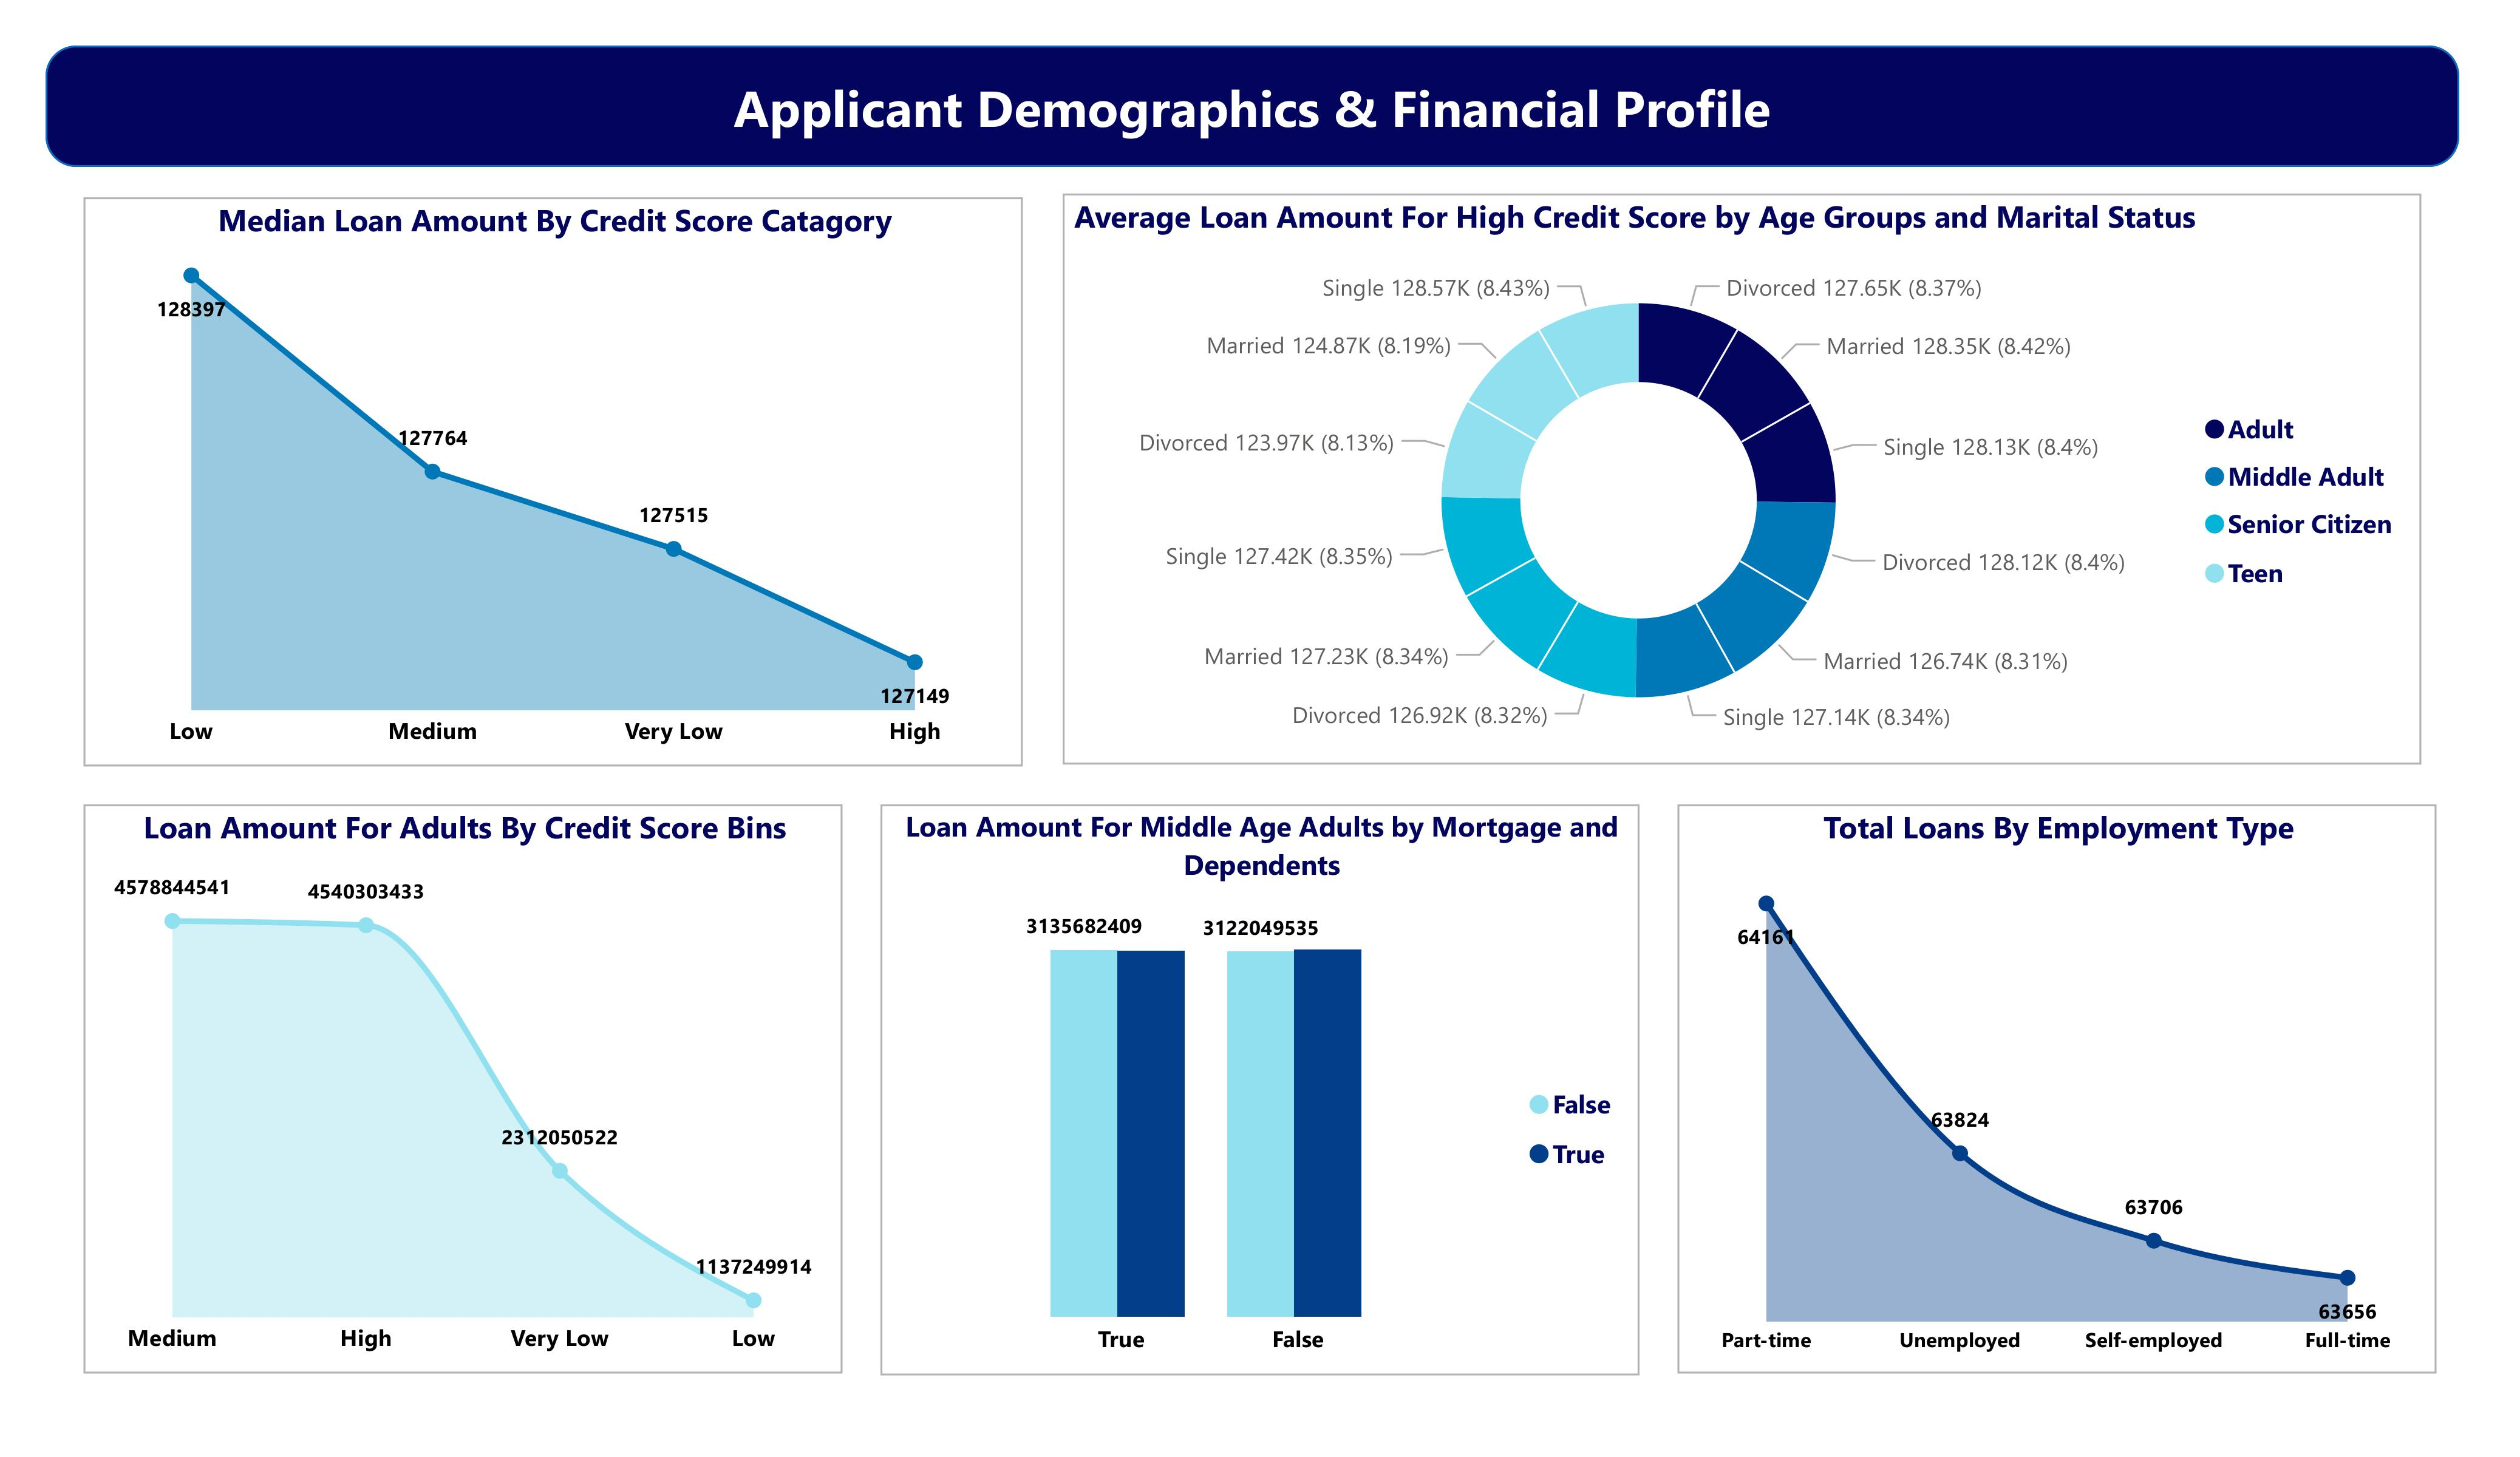

This screenshot's page, from the dashboard's own definition file:
{"tool":"powerbi","page":{"name":"Applicant Demographics & Financial Profile","canvas":[1280,720],"ordinal":0},"visuals":[{"type":"shape","box":[0,0,1271.7,63.6],"z":0},{"type":"lineChart","title":"Median Loan Amount By Credit Score Catagory","fields":{"Y":["MeasuresTable2.MedianByCreditScoreBins"],"Category":["Loan_default.CreditScoreBins"]},"box":[20,80,495,300],"z":1000},{"type":"donutChart","title":"Average Loan Amount For High Credit Score by Age Groups and Marital Status","fields":{"Y":["MeasuresTable2.AverageAmountByHighCreditScore"],"Category":["Loan_default.AgeGroups"],"Series":["Loan_default.MaritalStatus"]},"box":[535.6,78.3,716.6,300.8],"z":2000},{"type":"lineChart","title":"Loan Amount For Adults By Credit Score Bins","fields":{"Category":["Loan_default.CreditScoreBins"],"Y":["MeasuresTable2.AmountByCreditScoreBinsForAdults"]},"box":[20,400,400,300],"z":3000},{"type":"clusteredColumnChart","title":"Loan Amount For Middle Age Adults by Mortgage and Dependents","fields":{"Y":["MeasuresTable2.AmountForMiddleAgeAdults"],"Category":["Loan_default.HasMortgage"],"Series":["Loan_default.HasDependents"]},"box":[440,400,400,300.5],"z":4000},{"type":"lineChart","title":"Total Loans By Employment Type","fields":{"Category":["Loan_default.EmploymentType"],"Y":["MeasuresTable2.NumberOfLoansByEducation"]},"box":[860,400,400,300],"z":5000}]}

Visuals, with their boxes in screenshot pixels (x1, y1, x2, y2):
shape: Rect(46, 46, 2459, 166)
"Median Loan Amount By Credit Score Catagory" lineChart: Rect(84, 197, 1023, 766)
"Average Loan Amount For High Credit Score by Age Groups and Marital Status" donutChart: Rect(1062, 194, 2422, 765)
"Loan Amount For Adults By Credit Score Bins" lineChart: Rect(84, 804, 843, 1373)
"Loan Amount For Middle Age Adults by Mortgage and Dependents" clusteredColumnChart: Rect(880, 804, 1640, 1374)
"Total Loans By Employment Type" lineChart: Rect(1677, 804, 2436, 1373)
